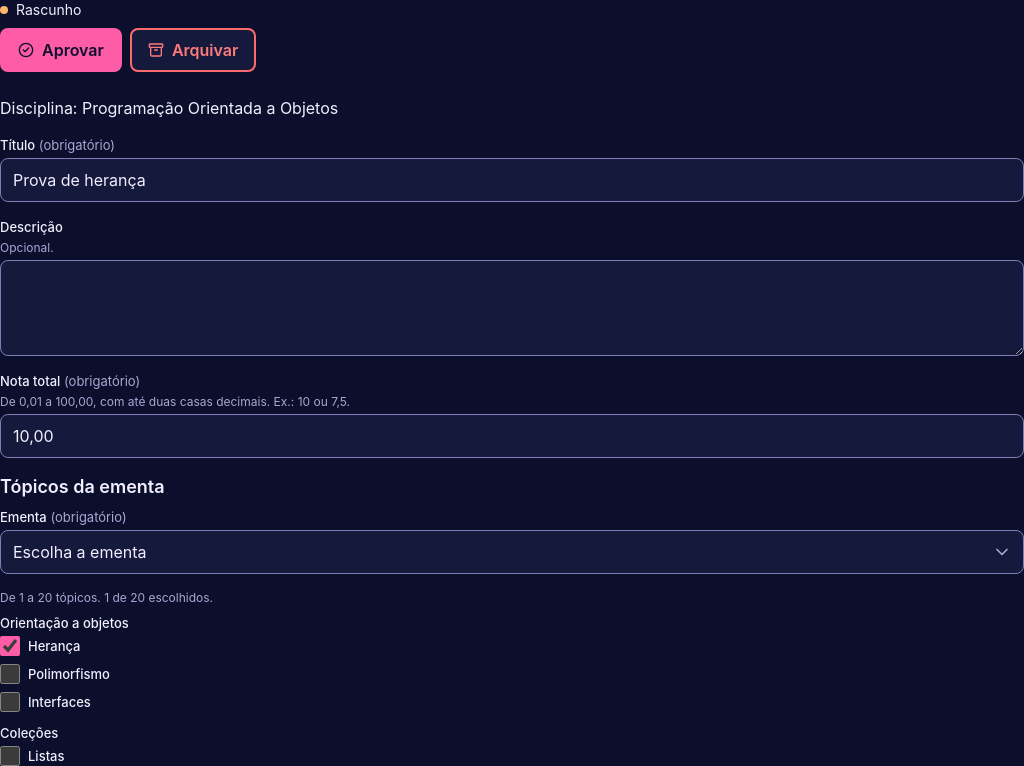
it: 018/US1 ExamDetail — aprovar, arquivar e editar uma prova › 018/FR-004 com tudo completo, aprova a versão lida e avisa
Click the button "Aprovar".
click(61, 50)  # box [0,28,122,72]
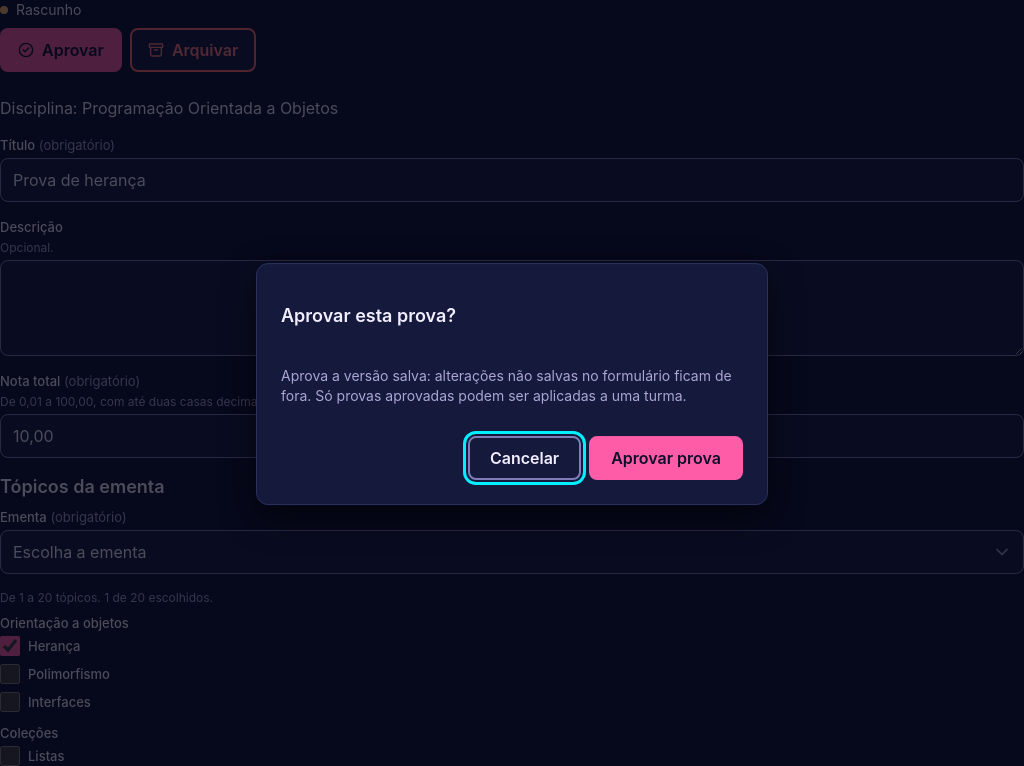
Click the button "Aprovar prova".
click(666, 458)  # box [589,436,743,480]
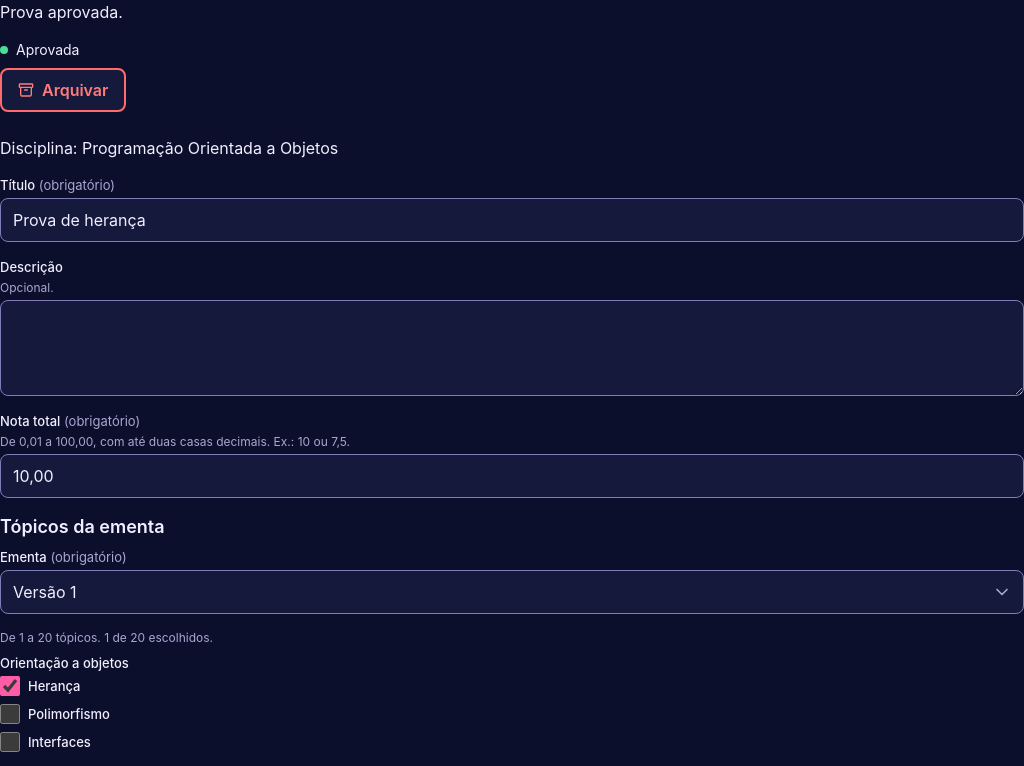
Expected: the text "Prova aprovada." is shown, [0,2,123,22]
